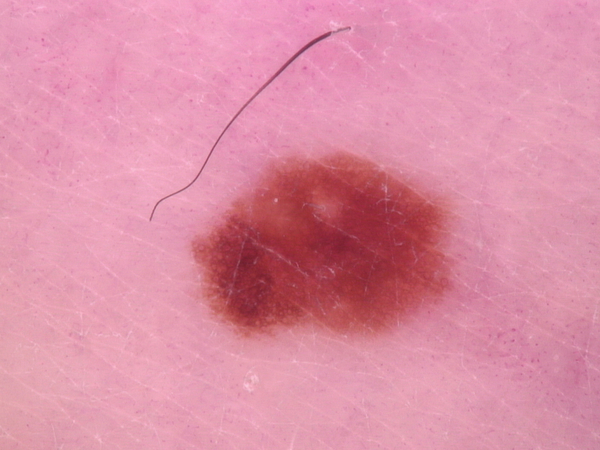Detected Lesion: (184, 146, 460, 347)
